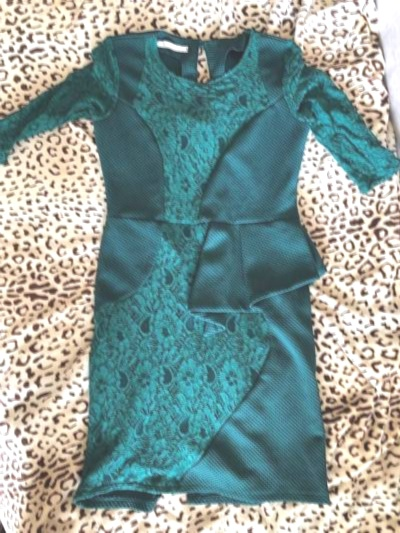Dress: (1, 8, 398, 517)
